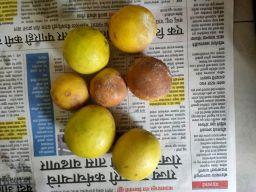lemon: (63, 105, 116, 159), (111, 127, 161, 181), (62, 27, 111, 75), (109, 4, 156, 54), (124, 57, 171, 100), (88, 67, 129, 107), (51, 73, 90, 111)
